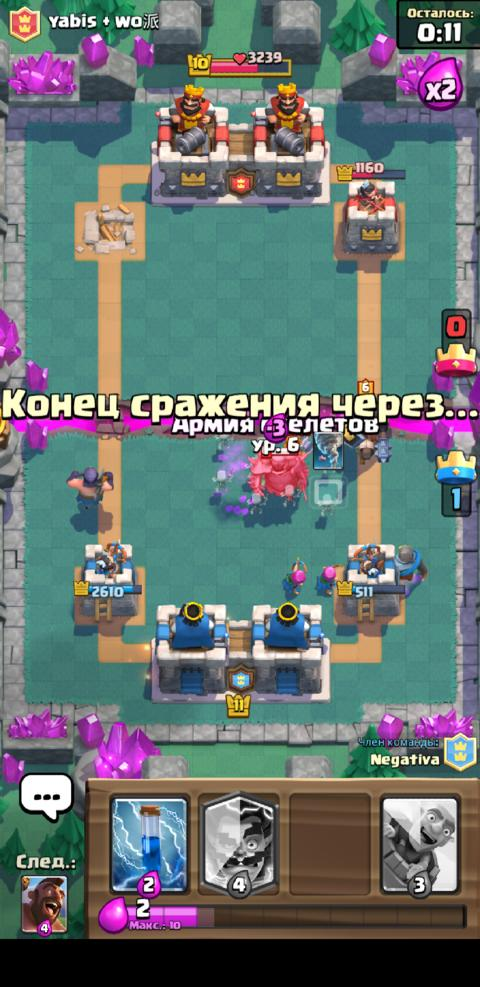ally_archer: (280, 556, 308, 597), (313, 562, 338, 596)
ally_executioner: (64, 464, 115, 511)
ally_knight: (393, 543, 428, 593)
enemy_dark_prince: (341, 378, 394, 465)
enemy_pekka: (245, 448, 309, 502)
enemy_valkyrie: (283, 433, 312, 449)
